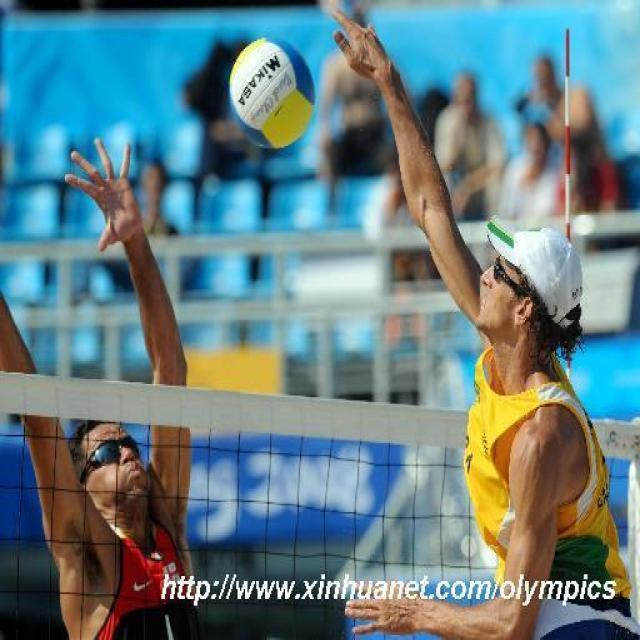volleyball: (231, 37, 314, 147)
